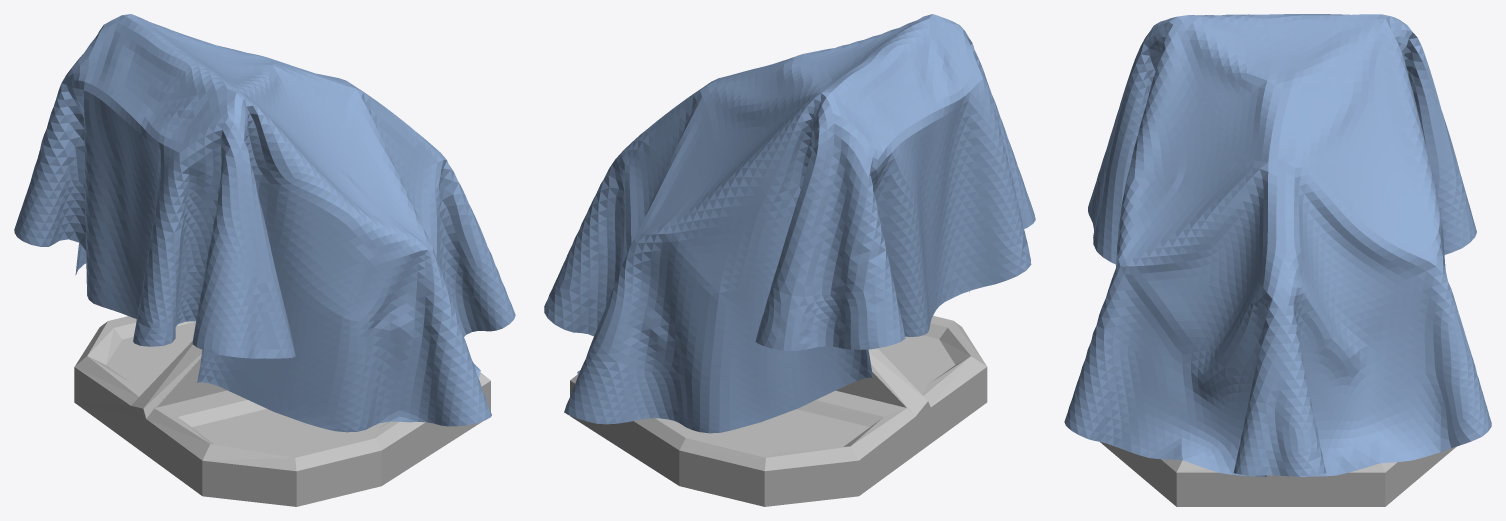
File: level_2.glb
3 renders of one model, left to right at view 1: azimuth 30°, elevation 25°; view 2: azimuth 150°, elevation 25°; view 3: azimuth 270°, elevation 25°, orthographic. The views are drawn at different scales.
Visible parts, largest first — view 1: world, object.obj; view 2: world, object.obj; view 3: world, object.obj.
Boxes of the visible parts, x1=… form: world: x1=14, y1=14, x2=515, y2=432; object.obj: x1=74, y1=316, x2=490, y2=506; world: x1=544, y1=14, x2=1035, y2=433; object.obj: x1=570, y1=315, x2=987, y2=506; world: x1=1064, y1=14, x2=1491, y2=477; object.obj: x1=1100, y1=442, x2=1456, y2=506.
Size of the model in its own units: 0.3426 by 0.3014 by 0.3142.
